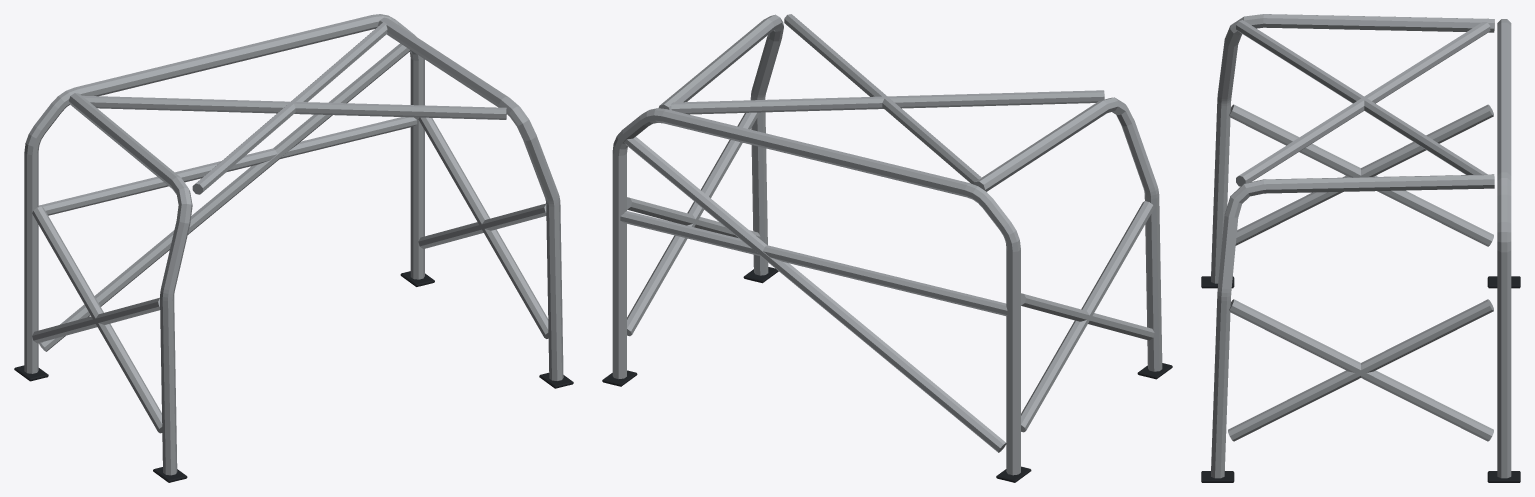
The model's file is hana_roadster.glb.
3 views of the same model, side by side, from view 1: azimuth 30°, elevation 25°; view 2: azimuth 150°, elevation 25°; view 3: azimuth 270°, elevation 25° (orthographic). The views are drawn at different scales.
Parts seen in each view (by area): view 1: model; view 2: model; view 3: model.
Boxes of the visible parts, x1,y1,x2,y2 form: model: (14, 14, 573, 482); model: (602, 14, 1172, 482); model: (1201, 14, 1520, 482).
Bounding box in the file's own units: 1.47 × 0.9499 × 0.9674.
Materials: 2 (1 with a texture image).
